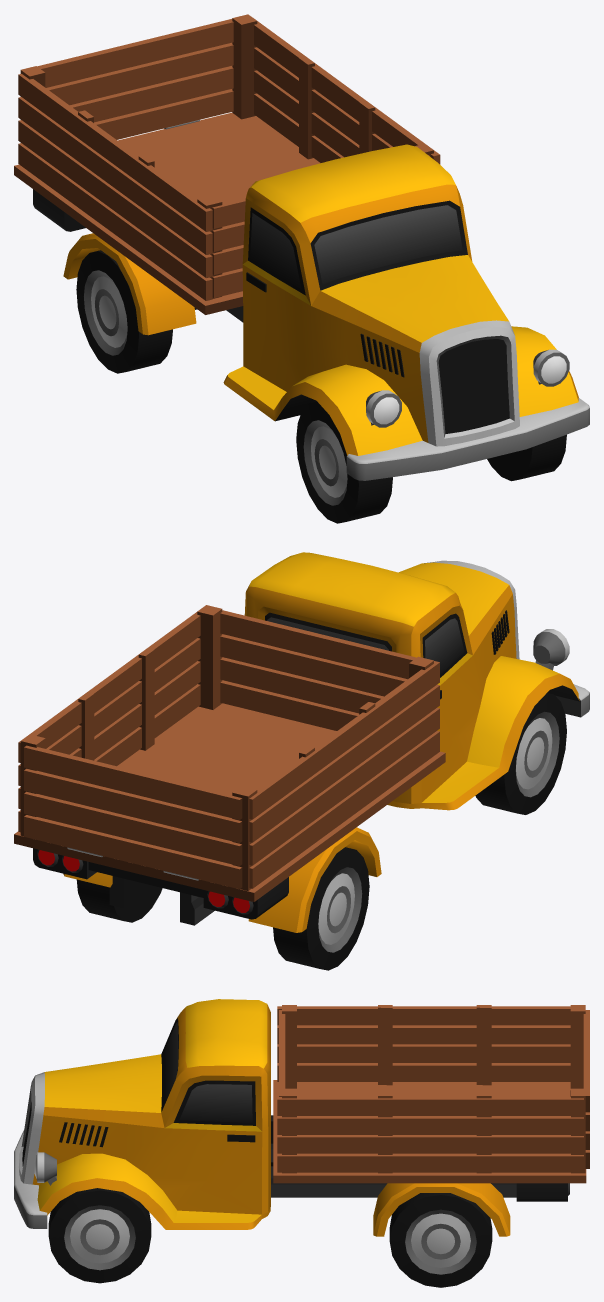
File: Farm Truck 2.fbx
3 views of the same model, one above another, from view 1: azimuth 30°, elevation 25°; view 2: azimuth 150°, elevation 25°; view 3: azimuth 270°, elevation 25° (orthographic). The views are drawn at different scales.
Visible parts, largest first — view 1: Farm_Truck_2_Body, B_R, F_R, F_L, FArm_Truck_2_Lights; view 2: Farm_Truck_2_Body, B_R, F_R, B_L, FArm_Truck_2_Lights; view 3: Farm_Truck_2_Body, B_L, F_L.
Boxes of the visible parts, x1,y1,x2,y2 form: Farm_Truck_2_Body: (14,14,589,480); B_R: (76,250,172,373); F_R: (296,401,392,523); F_L: (487,434,566,481); FArm_Truck_2_Lights: (374,356,566,424); Farm_Truck_2_Body: (14,552,589,932); B_R: (273,847,369,970); F_R: (475,693,566,814); B_L: (76,879,162,922); FArm_Truck_2_Lights: (38,850,249,912); Farm_Truck_2_Body: (14,999,589,1236); B_L: (389,1193,492,1287); F_L: (48,1188,151,1283).
Size of the model in its own units: 210 by 223 by 533.
